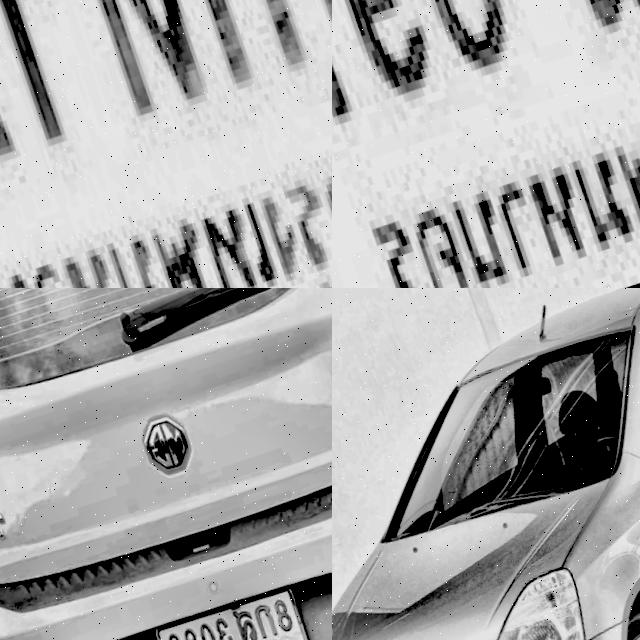license-plate: (0, 0, 332, 288), (332, 0, 640, 288), (136, 588, 311, 640)
